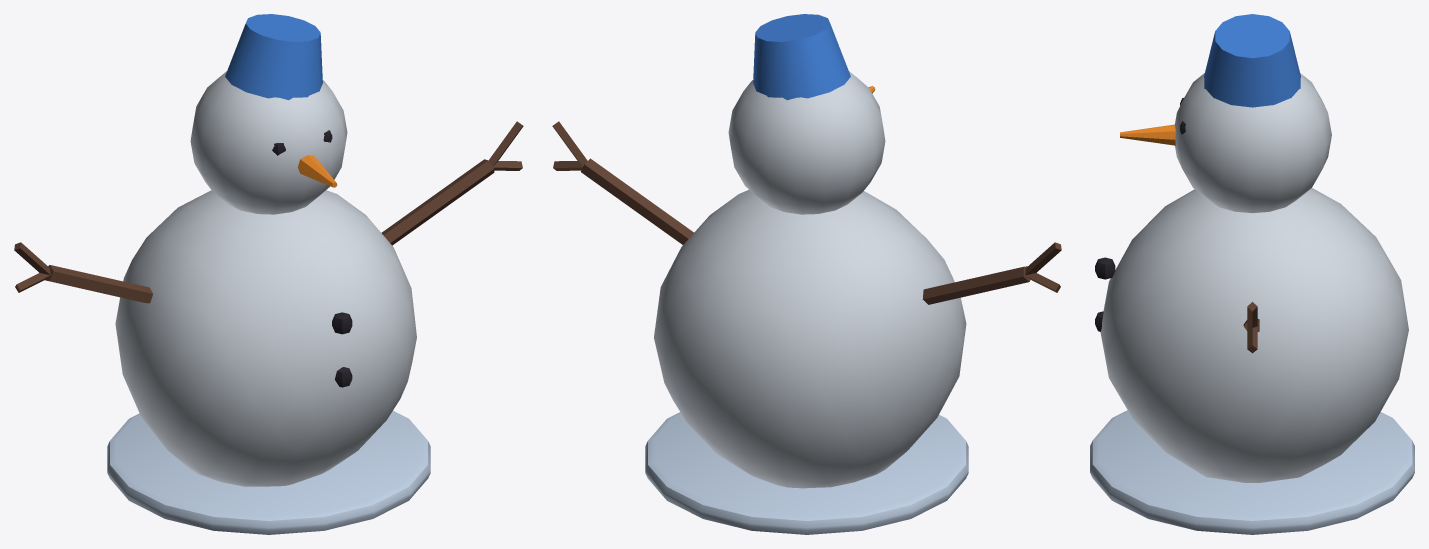
File: snow_man_shell.glb
3 renders of one model, left to right at view 1: azimuth 30°, elevation 25°; view 2: azimuth 150°, elevation 25°; view 3: azimuth 270°, elevation 25°, orthographic.
Parts seen in each view (by area): view 1: snow_man_shell; view 2: snow_man_shell; view 3: snow_man_shell.
Part boxes in pixels (x1,y1,x2,y2): snow_man_shell: (14, 14, 523, 534); snow_man_shell: (552, 14, 1061, 534); snow_man_shell: (1090, 14, 1414, 534).
Size of the model in its own units: 2.01 by 1.67 by 1.1.
